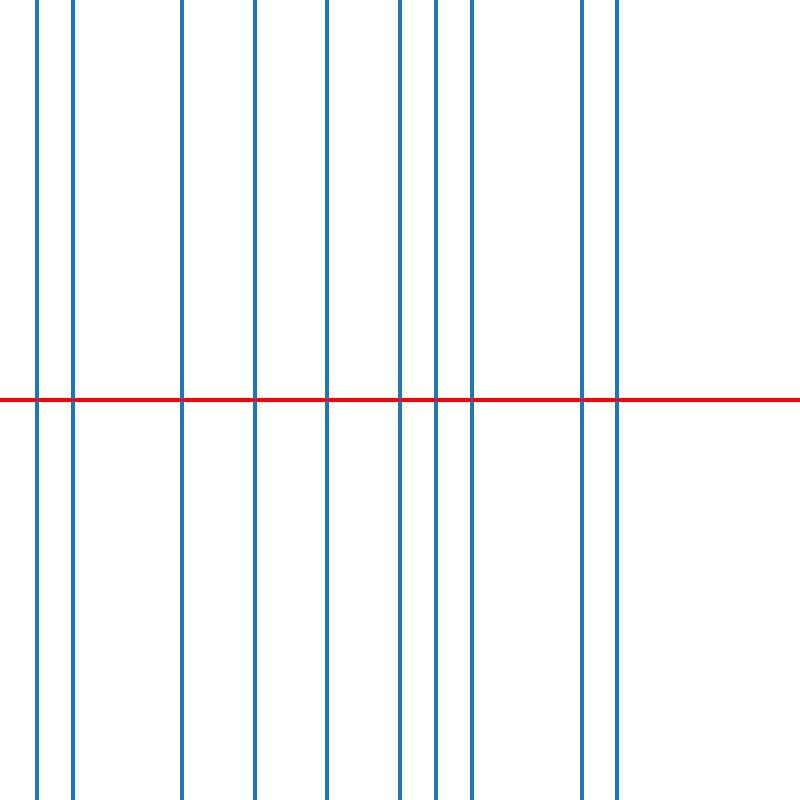root: (32, 396, 40, 404), (250, 396, 258, 404), (432, 396, 440, 404), (178, 396, 185, 404), (396, 396, 403, 404), (614, 396, 621, 404), (578, 396, 585, 404), (323, 396, 330, 404), (69, 396, 76, 404), (469, 396, 476, 404)
